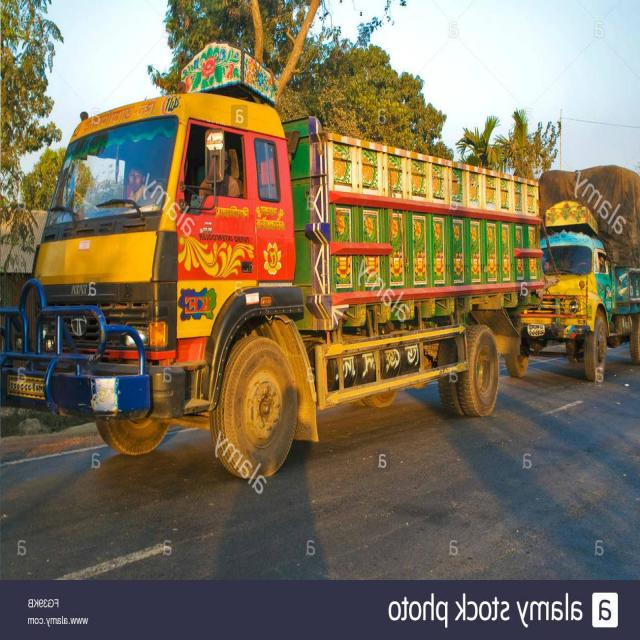truck: (8, 44, 542, 454), (540, 158, 640, 403)
